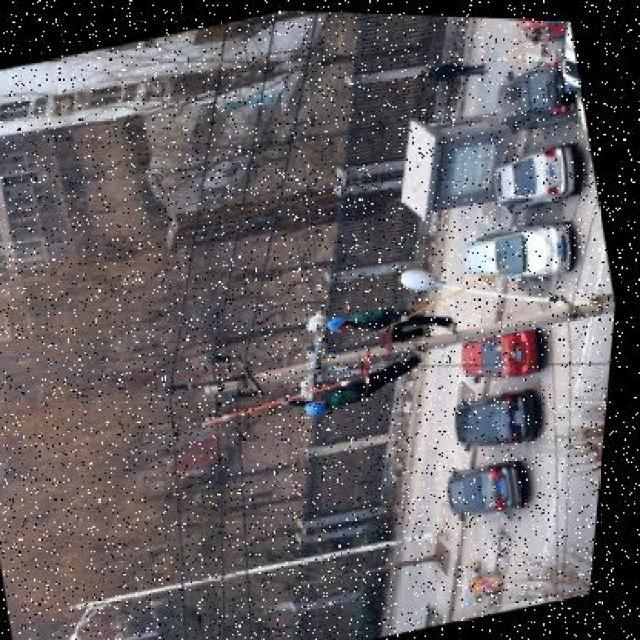helmet: (308, 389, 340, 415), (327, 309, 356, 331)
